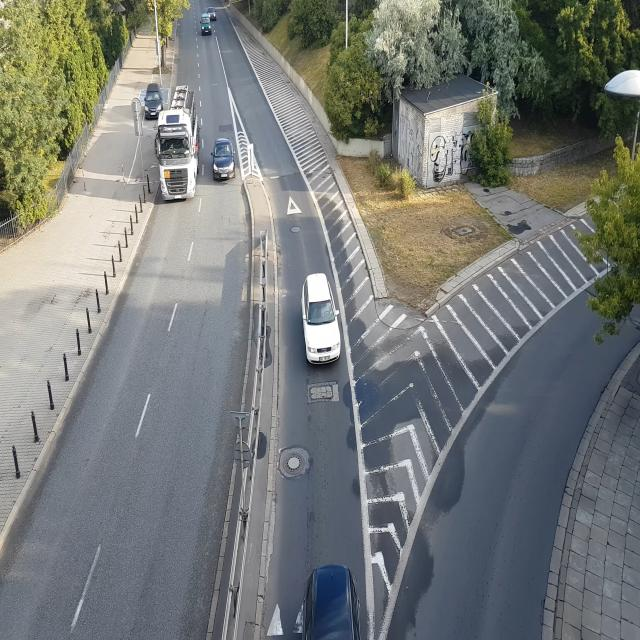car: (303, 555, 364, 640), (301, 275, 342, 364), (212, 138, 235, 182), (144, 90, 164, 118), (199, 13, 214, 35), (209, 4, 219, 22)
truck: (153, 84, 202, 200)
